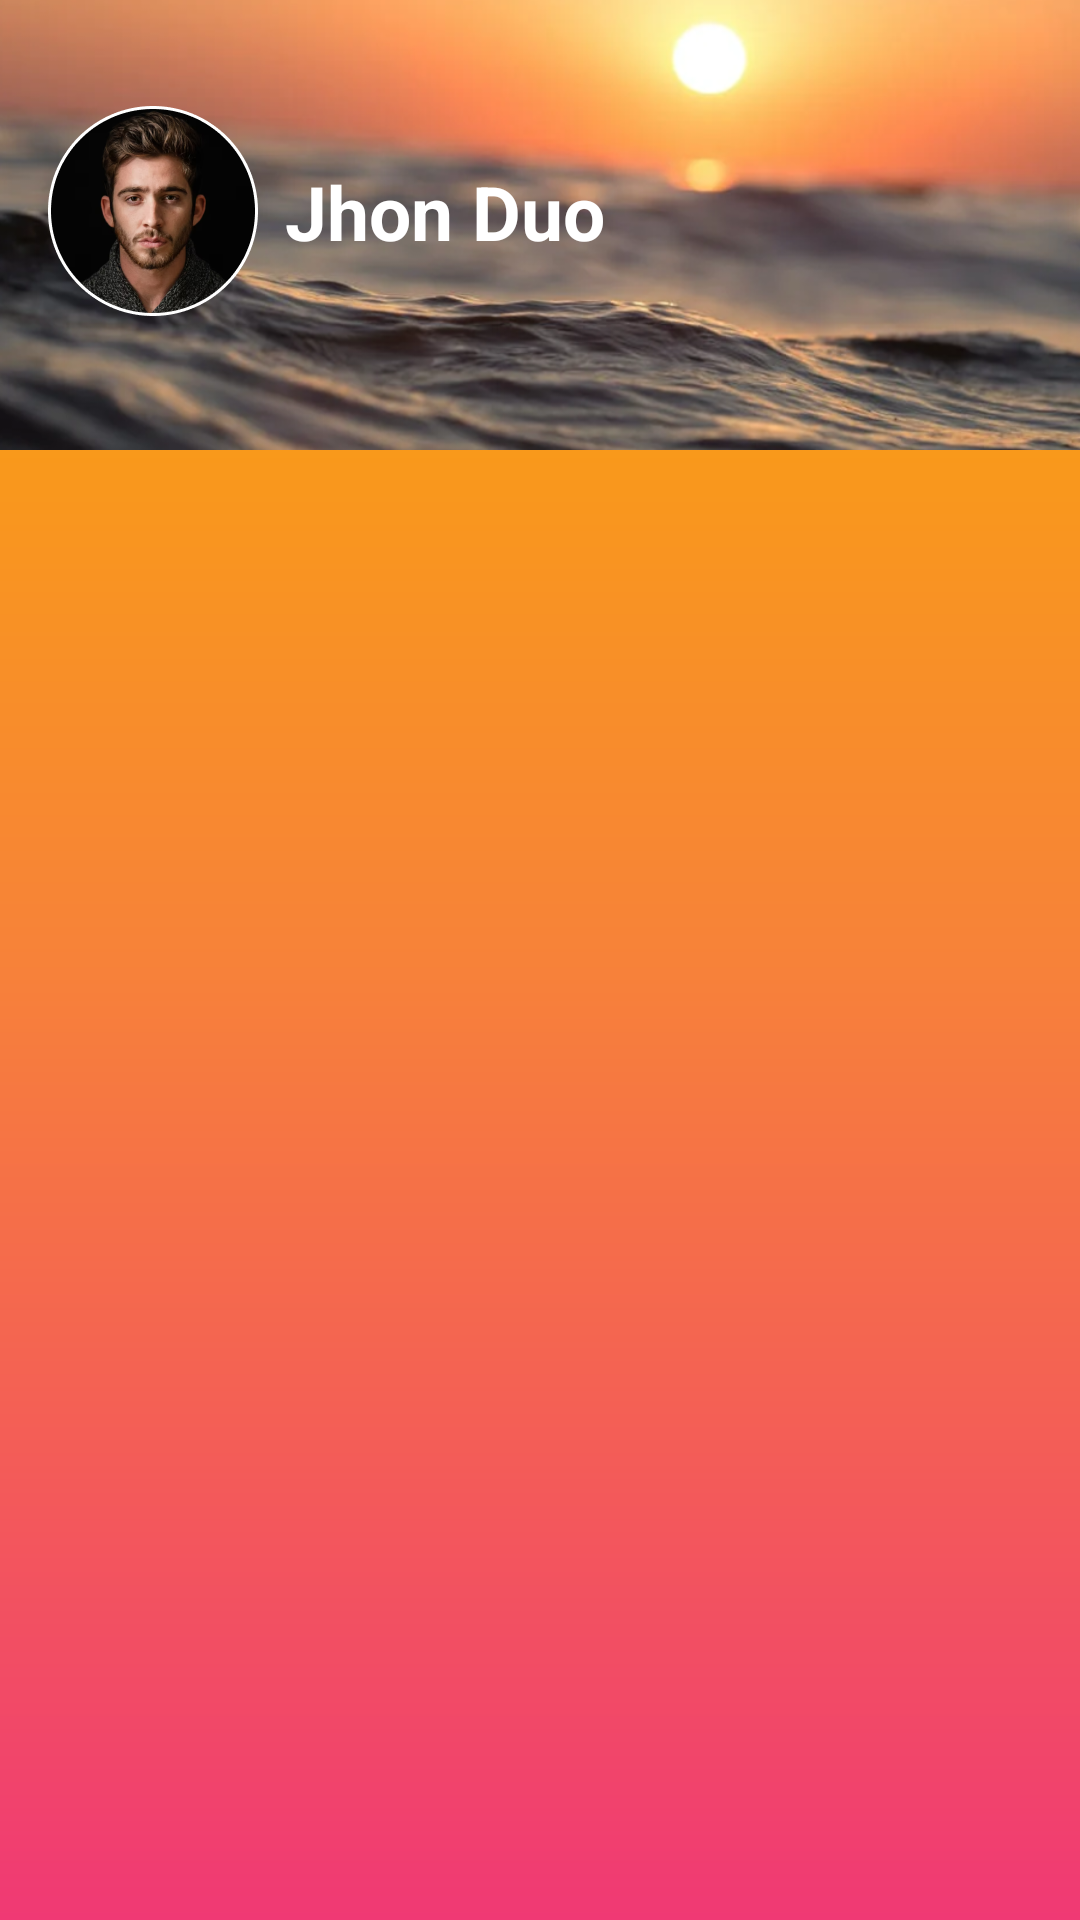

Icons on this 1080px×1920px Android screen, each with the point to tap as (x=x, y=y):
user: (x=153, y=211)
